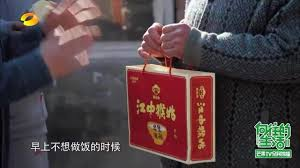box: (125, 63, 217, 163)
